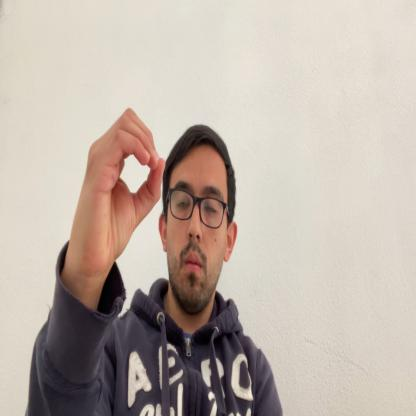O: (73, 105, 165, 271)
